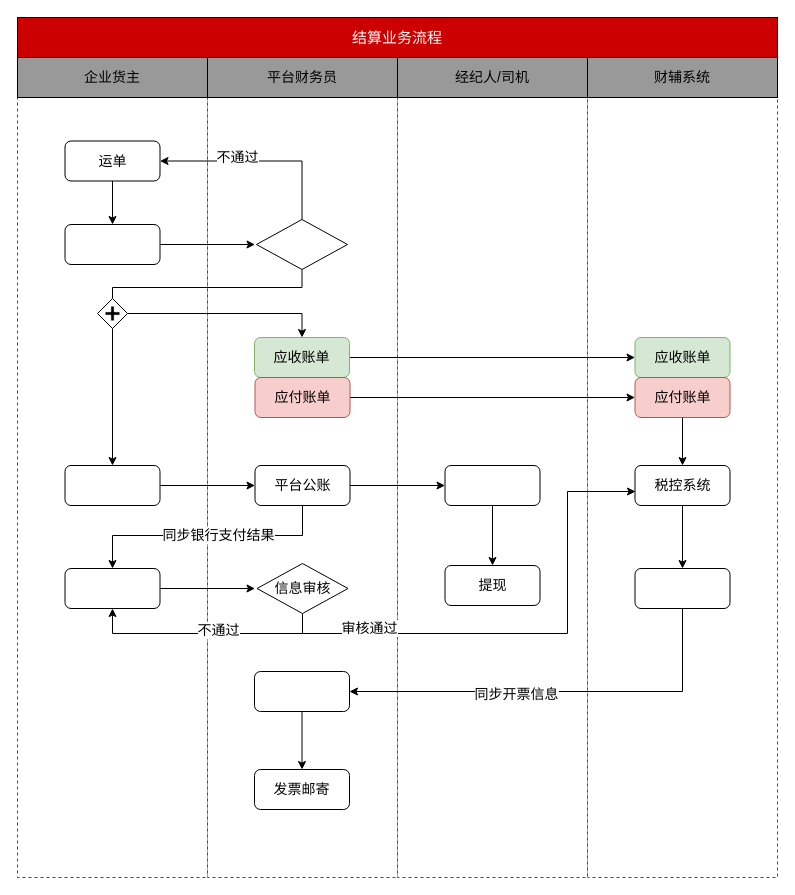
The diagram is 795 pixels wide and 895 high, and some of its shapes have lost their labels. Each missing label, with the centre of its shape:
"个人账户" goes at [492,485].
"在线支付" goes at [112,485].
"开票" goes at [682,588].
"开票信息" goes at [302,691].
"申请开票" goes at [112,588].
"结算单" goes at [112,244].
"结算单审核" goes at [302,244].
